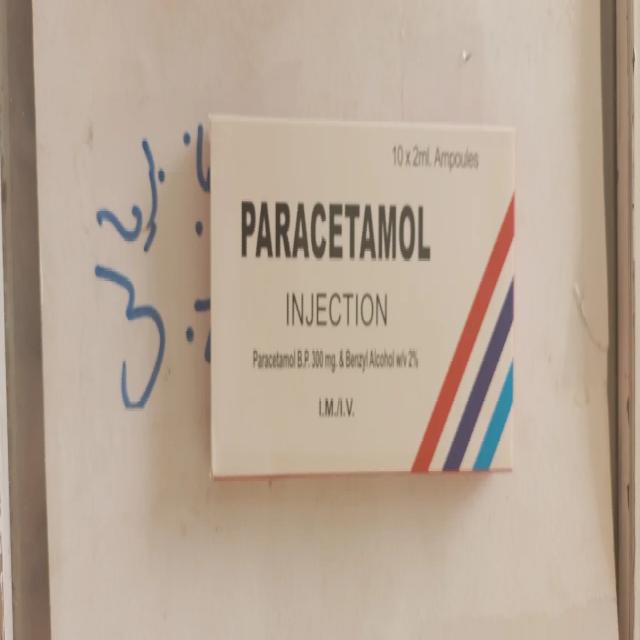drug-name: (237, 196, 433, 262)
